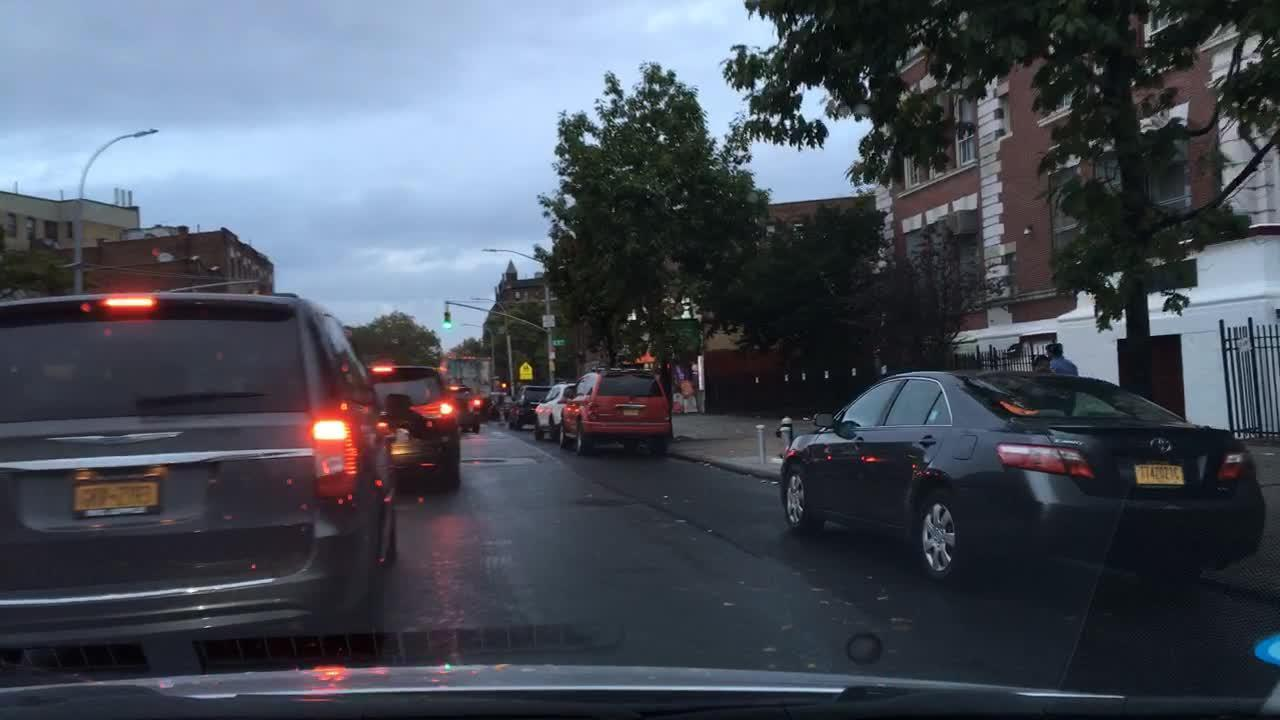Chrysler: (33, 421, 206, 452)
Toyota: (1147, 434, 1181, 458)
